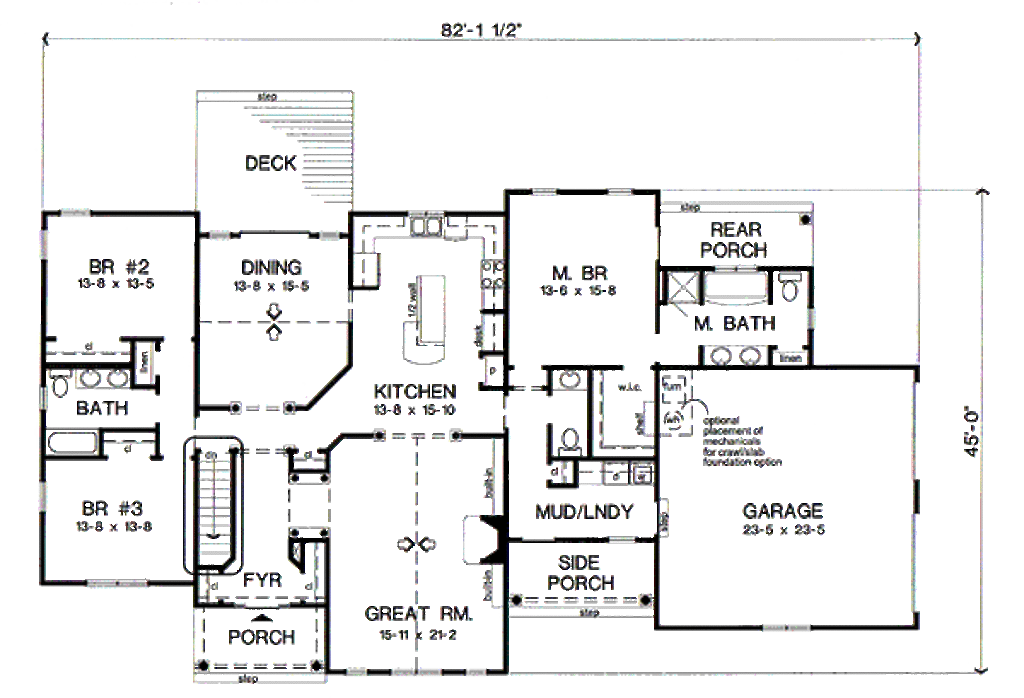kitchen_bar: (397, 272, 455, 371)
large_sink: (771, 266, 808, 307), (554, 423, 587, 460), (48, 369, 78, 404)
small_sink: (75, 362, 135, 391), (704, 343, 767, 367), (553, 362, 591, 396)
stairs: (181, 438, 247, 574)
tub: (704, 266, 781, 304), (45, 425, 108, 459)
twin_sink: (405, 204, 449, 246)
window: (758, 619, 824, 639), (84, 575, 155, 591), (54, 208, 97, 221), (341, 665, 378, 677), (38, 228, 48, 264)
